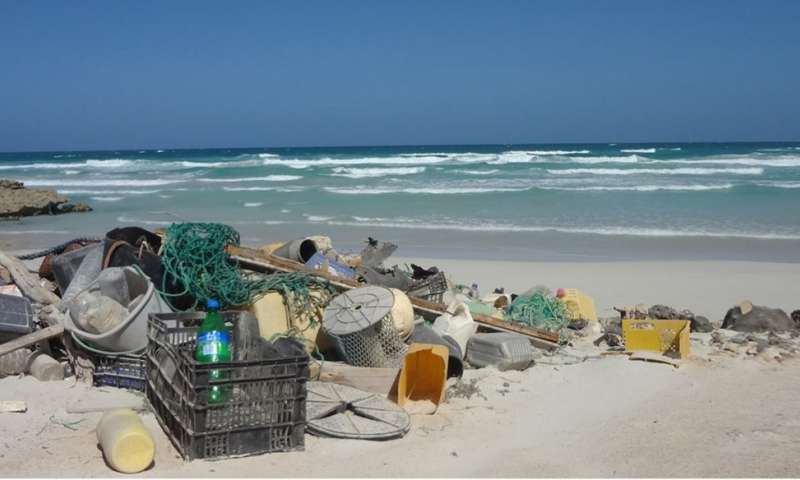litter: (119, 295, 342, 472), (58, 266, 174, 355), (160, 222, 270, 311), (317, 281, 422, 365), (87, 219, 185, 294), (384, 327, 458, 425), (69, 400, 158, 480), (503, 279, 584, 353), (615, 304, 698, 370), (271, 230, 363, 280), (555, 260, 605, 344)
